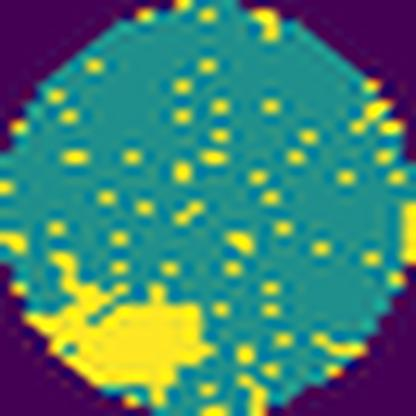Loc: (26, 245, 219, 406)
